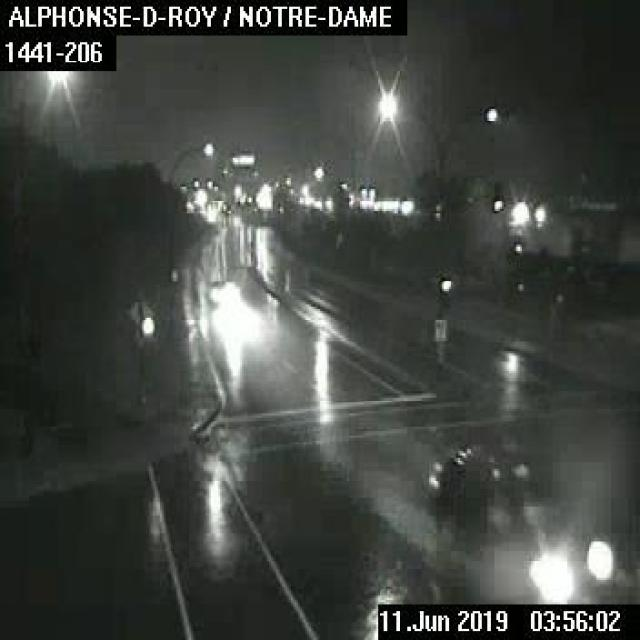vehicle: (427, 440, 613, 600), (206, 273, 234, 300)
